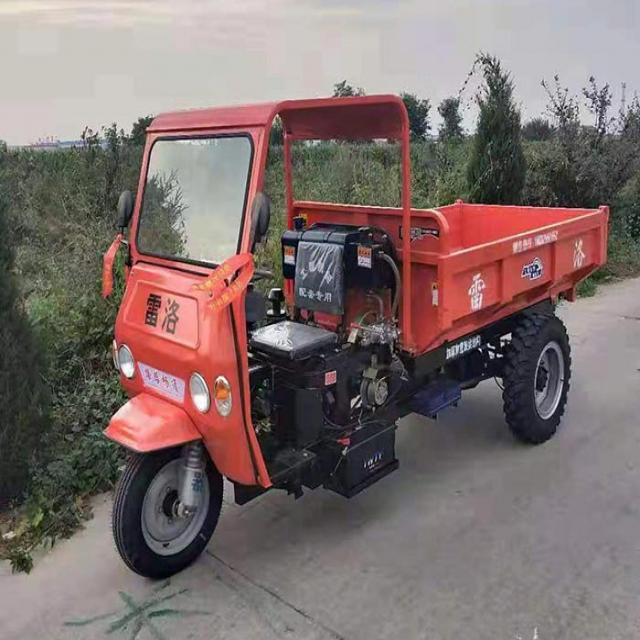tricycle: (103, 93, 611, 580)
